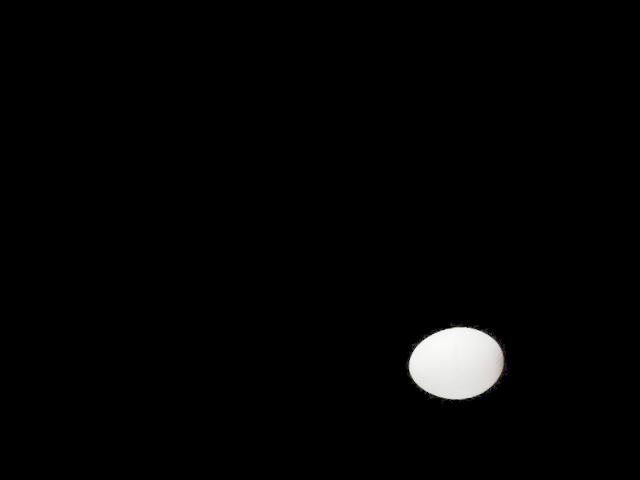egg: (406, 322, 507, 403)
